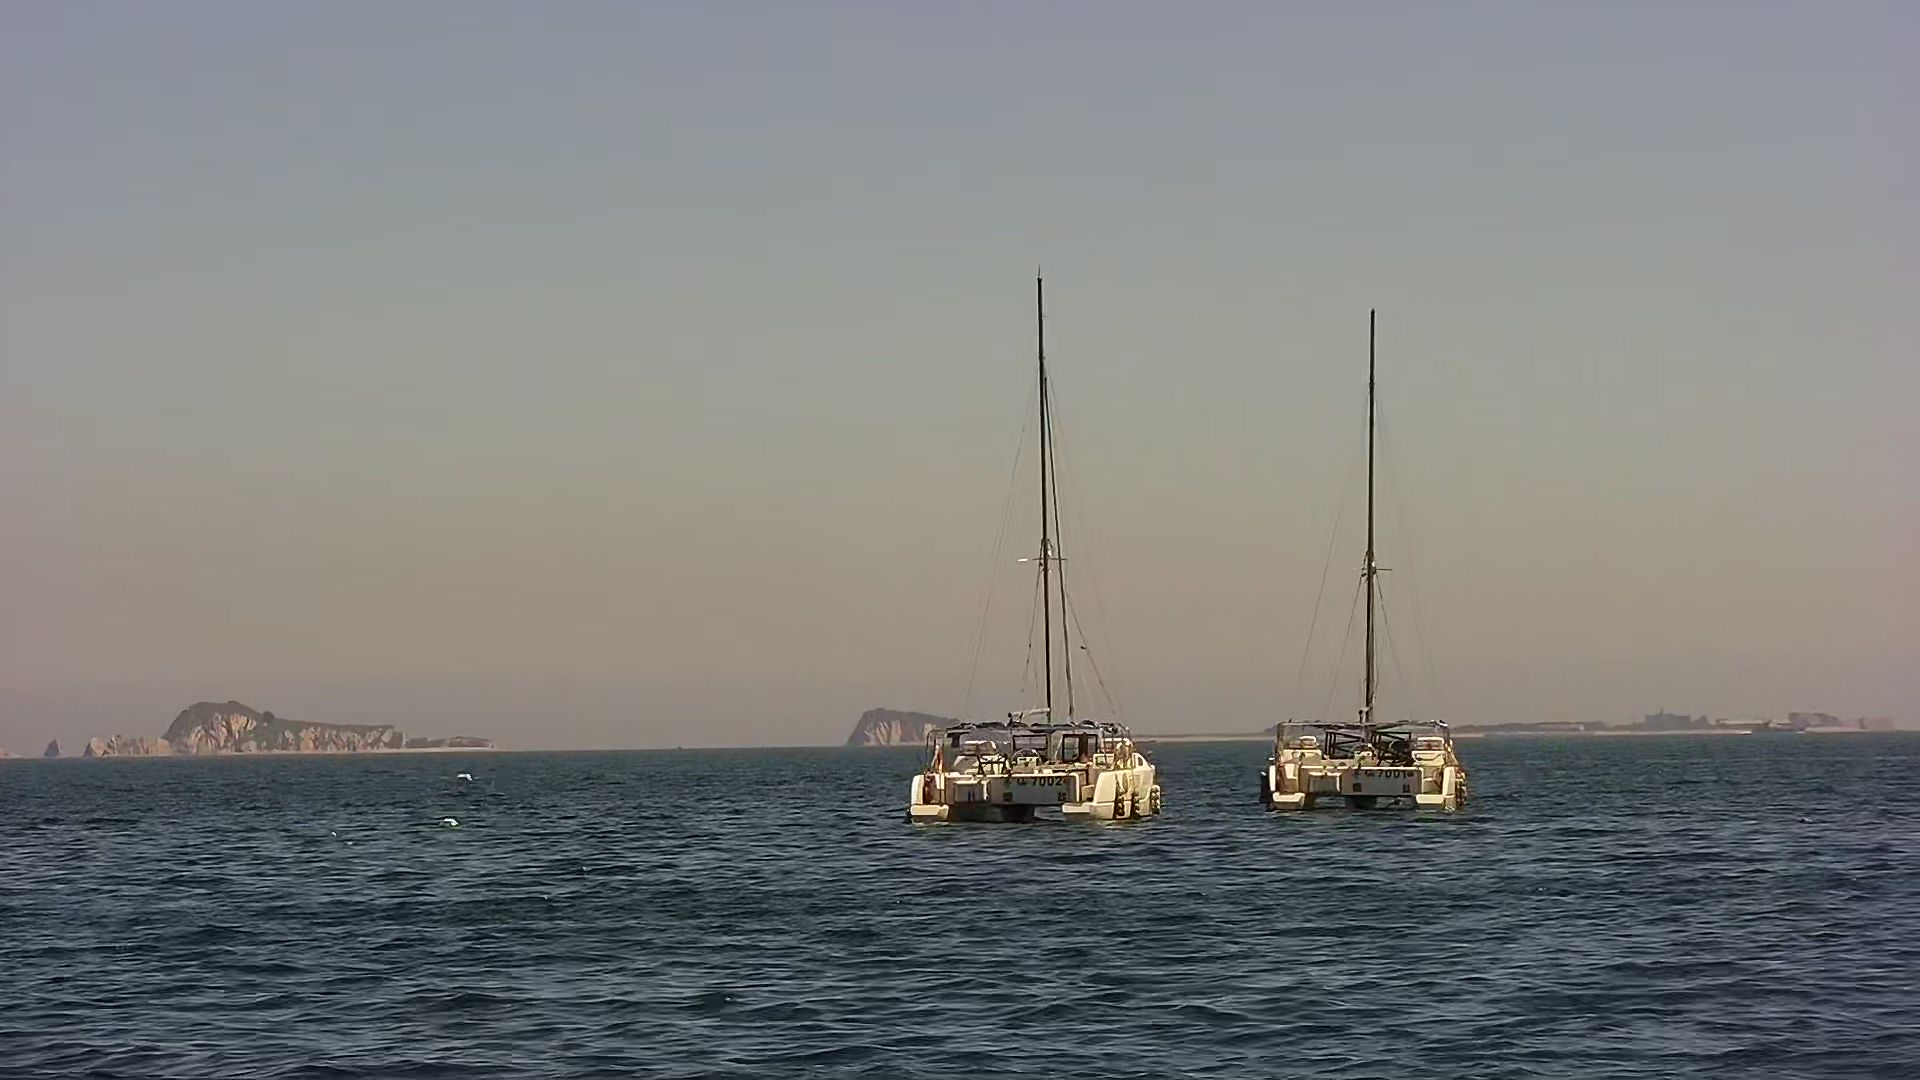ball: (438, 812, 463, 833)
boat: (895, 262, 1160, 833), (1251, 303, 1487, 824)
rock: (76, 702, 496, 752), (1509, 705, 1883, 738), (843, 699, 1000, 746), (33, 733, 71, 760)
